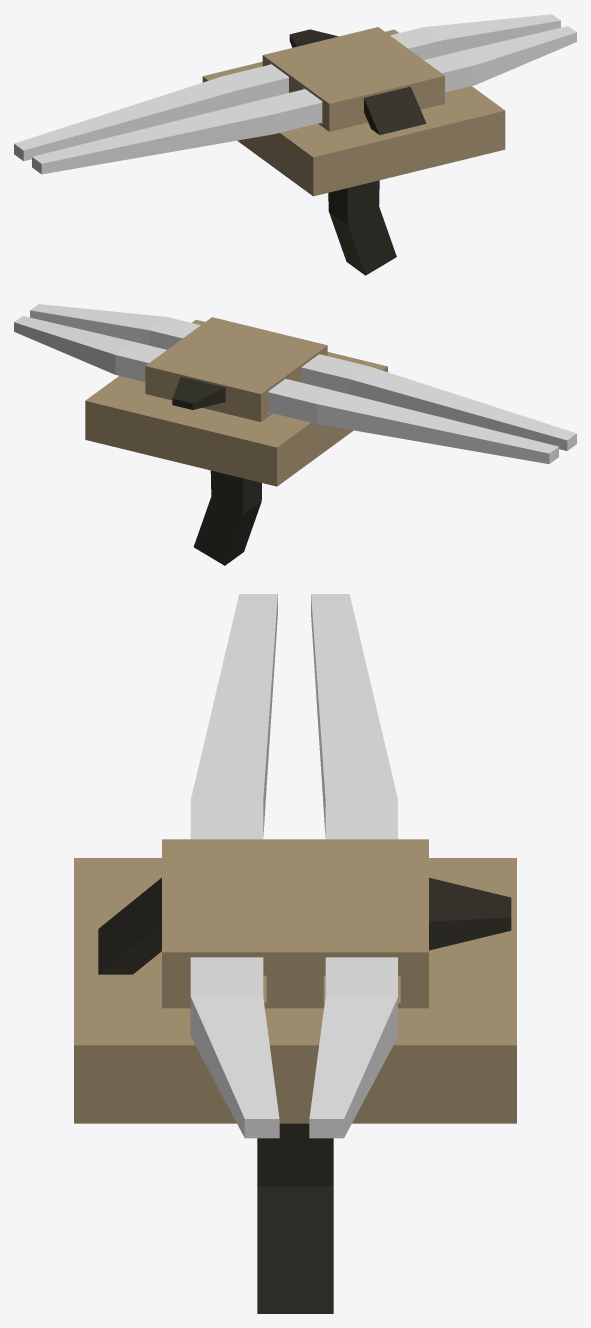
The model's file is shield_generator.glb.
The picture shows the model from 3 angles, top to bottom: view 1: azimuth 30°, elevation 25°; view 2: azimuth 150°, elevation 25°; view 3: azimuth 270°, elevation 25°; orthographic projection. The views are drawn at different scales.
Parts seen in each view (by area): view 1: Cube, Cube.001; view 2: Cube, Cube.001; view 3: Cube, Cube.001.
Part boxes in pixels (x1,y1,x2,y2): Cube: [202, 27, 505, 275]; Cube.001: [14, 14, 576, 174]; Cube: [85, 317, 387, 565]; Cube.001: [14, 304, 576, 464]; Cube: [74, 839, 516, 1313]; Cube.001: [190, 594, 397, 1138].
Size of the model in its own units: 1.56 by 0.5672 by 0.559.
Materials: 1 (1 with a texture image).
